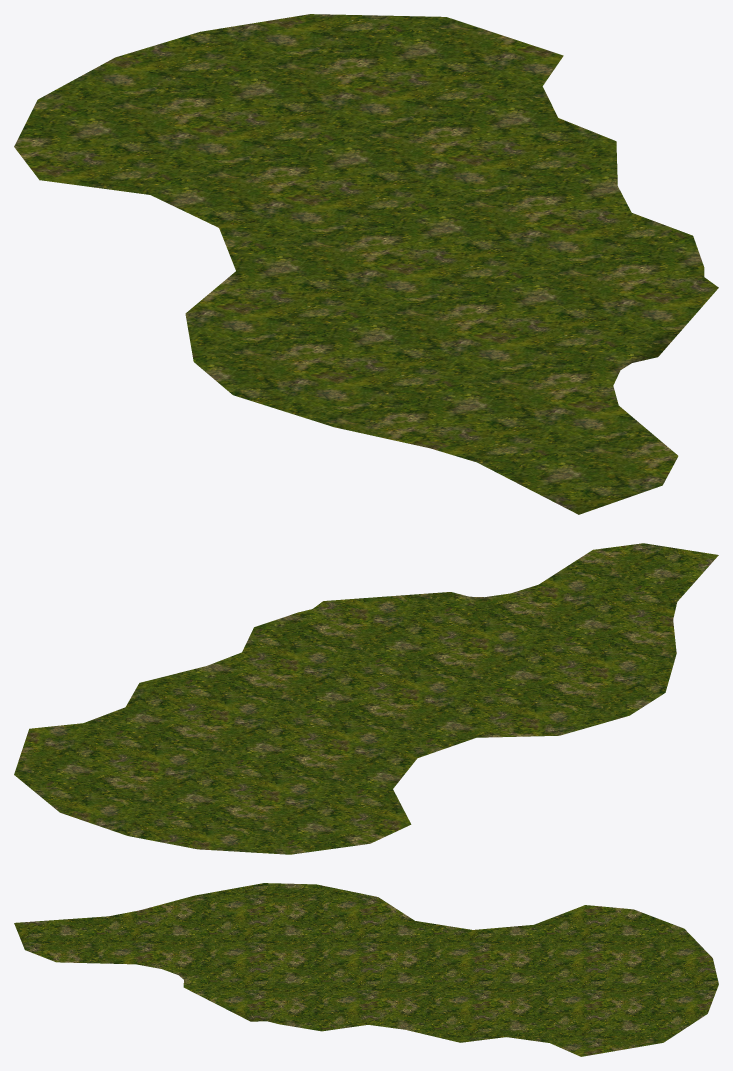
The model's file is OVERHILL_A_01_PROXY_LINE08.fbx.
3 views of the same model, one above another, from view 1: azimuth 30°, elevation 25°; view 2: azimuth 150°, elevation 25°; view 3: azimuth 270°, elevation 25° (orthographic). The views are drawn at different scales.
Visible parts, largest first — view 1: OVERHILL_A_01_PROXY_LINE08; view 2: OVERHILL_A_01_PROXY_LINE08; view 3: OVERHILL_A_01_PROXY_LINE08.
Boxes of the visible parts, x1=… form: OVERHILL_A_01_PROXY_LINE08: x1=14, y1=14, x2=718, y2=514; OVERHILL_A_01_PROXY_LINE08: x1=14, y1=543, x2=718, y2=854; OVERHILL_A_01_PROXY_LINE08: x1=14, y1=883, x2=718, y2=1056.
Bounding box in the file's own units: 73193 × 0.0215 × 125408.
Materials: 1 (1 with a texture image).
